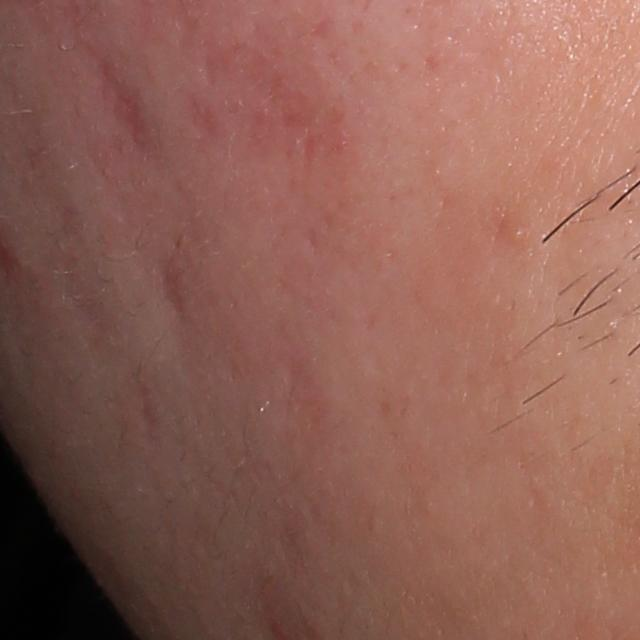atrophic_scar: (189, 50, 350, 161), (100, 53, 158, 155), (155, 255, 190, 316)
comedo: (506, 220, 530, 244)
